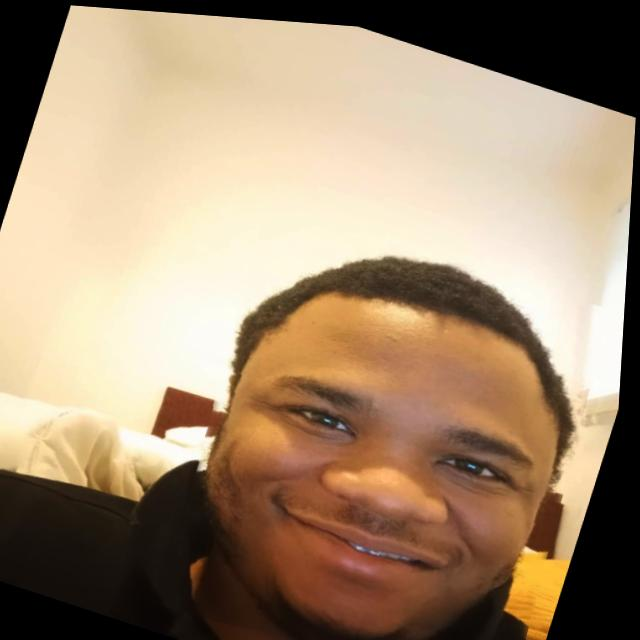happy: (151, 192, 631, 640)
